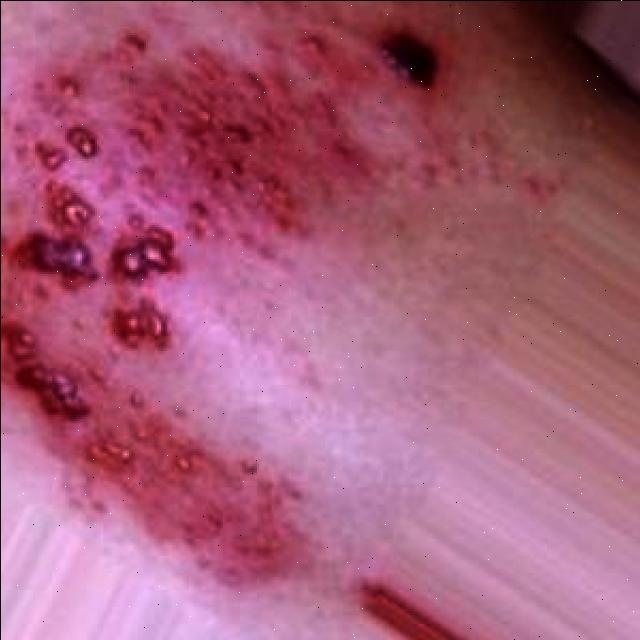Shingles: (0, 33, 364, 296), (0, 305, 316, 596)
